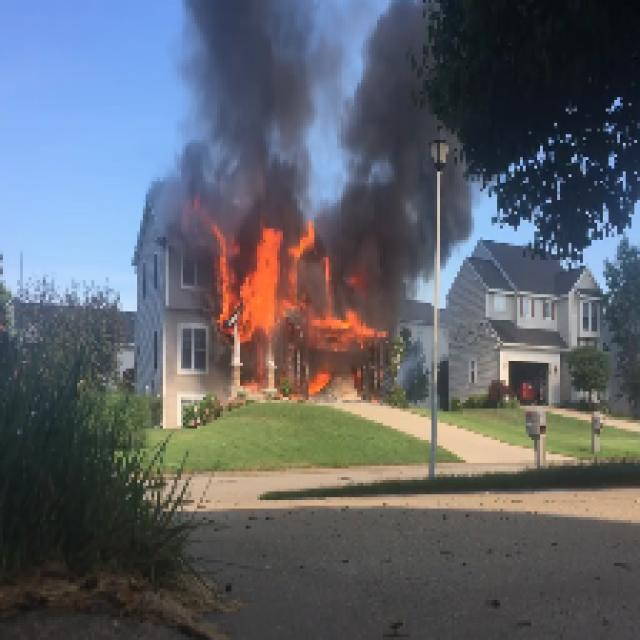fire: (224, 234, 289, 328)
smoke: (356, 36, 435, 304), (205, 10, 291, 225)
